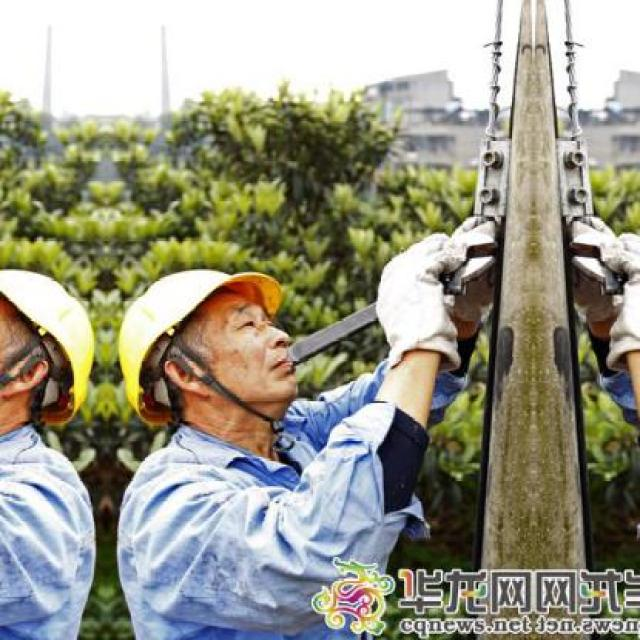helmet: (105, 244, 318, 424), (0, 243, 108, 425)
